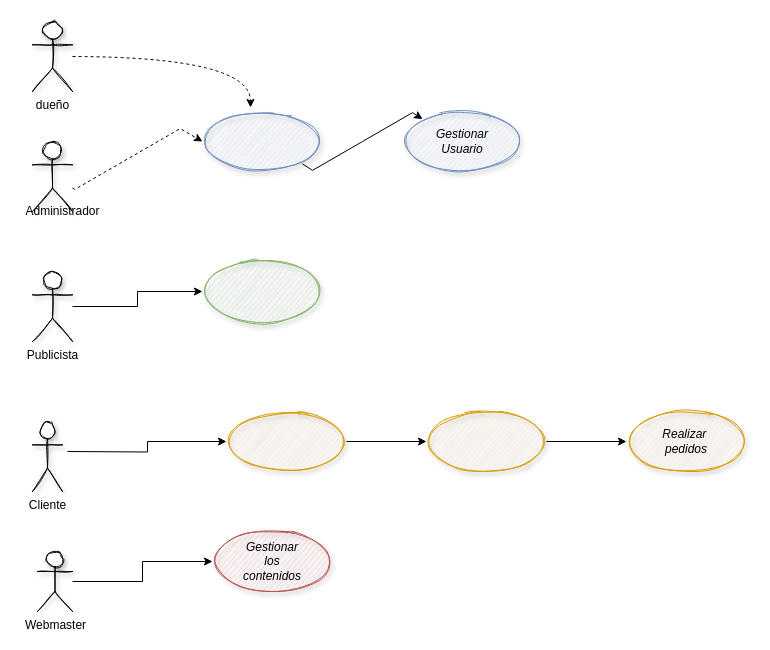
Some shapes in this 770 by 650 pixel diagram are drawn without their labels. The shapes that lost their labels are listed below. From the top down, each one's centre as x and y in pixels, then its label:
At (x=263, y=142): "Consultar reportes".
At (x=263, y=292): "Gestionar publicidad".
At (x=287, y=442): "Ingresar al sistema".
At (x=487, y=442): "Consultar productos".
